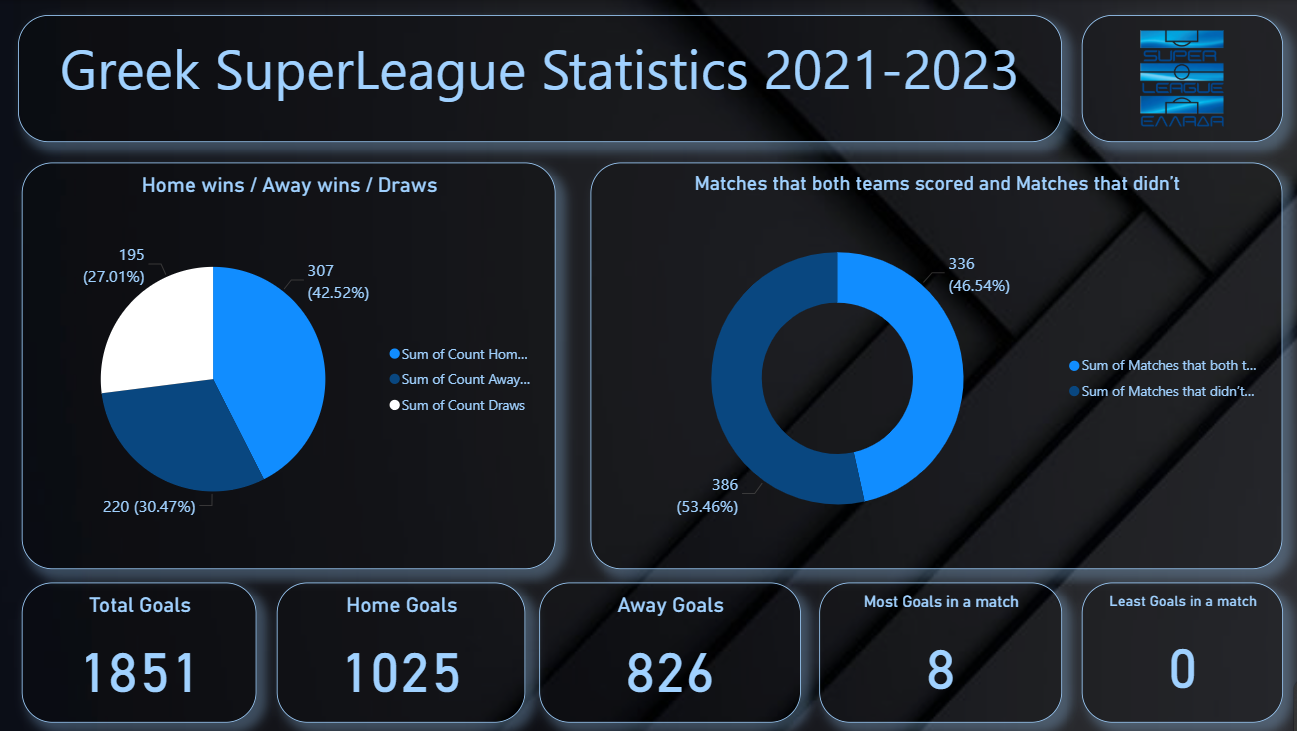

The page's visual inventory and layout, read from the dashboard file:
{"tool":"powerbi","page":{"name":"Page 1","canvas":[1280,720],"ordinal":0},"visuals":[{"type":"card","title":"Total Goals","fields":{"Values":["Sum(Greek_SuperLeague_Matches.Total Goals)"]},"box":[23.3,571.8,230.7,137.4],"z":0},{"type":"card","title":"Home Goals","fields":{"Values":["Sum(Greek_SuperLeague_Matches.Total Home goals)"]},"box":[273.6,571.8,244.2,137.4],"z":1000},{"type":"card","title":"Away Goals","fields":{"Values":["Sum(Greek_SuperLeague_Matches.Total Away Goals)"]},"box":[531.3,571.8,256.4,137.4],"z":2000},{"type":"card","title":"Most Goals in a match","fields":{"Values":["Sum(Greek_SuperLeague_Matches.Most goals in a match)"]},"box":[806.1,571.8,238,137.4],"z":3000},{"type":"card","title":"Least Goals in a match","fields":{"Values":["Sum(Greek_SuperLeague_Matches.Least goals in a match)"]},"box":[1063.8,571.8,197.5,137.4],"z":4000},{"type":"image","box":[1063.5,15.1,197.6,124.9],"z":5000},{"type":"pieChart","title":"Home wins / Away wins / Draws","fields":{"Y":["Sum(Greek_SuperLeague_Matches.Count Home Wins)","Sum(Greek_SuperLeague_Matches.Count Away Wins)","Sum(Greek_SuperLeague_Matches.Count Draws)"]},"box":[23.3,159.2,524.2,399.3],"z":6000},{"type":"donutChart","title":"Matches that both teams scored and Matches that didn’t","fields":{"Y":["Sum(Greek_SuperLeague_Matches.Matches that both teams scored)","Sum(Greek_SuperLeague_Matches.Matches that didn’t score both teams)"]},"box":[581.8,159.2,679.2,399.3],"z":7000},{"type":"textbox","box":[19.2,15.1,1025,124.9],"z":8000}]}

Visuals, with their boxes in screenshot pixels (x1, y1, x2, y2), scaled from the page's 1280x720 canvas onto the 1297x731 screenshot:
"Total Goals" card: 24/581/257/720
"Home Goals" card: 277/581/525/720
"Away Goals" card: 538/581/798/720
"Most Goals in a match" card: 817/581/1058/720
"Least Goals in a match" card: 1078/581/1278/720
image: 1078/15/1278/142
"Home wins / Away wins / Draws" pieChart: 24/162/555/567
"Matches that both teams scored and Matches that didn’t" donutChart: 590/162/1278/567
textbox: 19/15/1058/142
